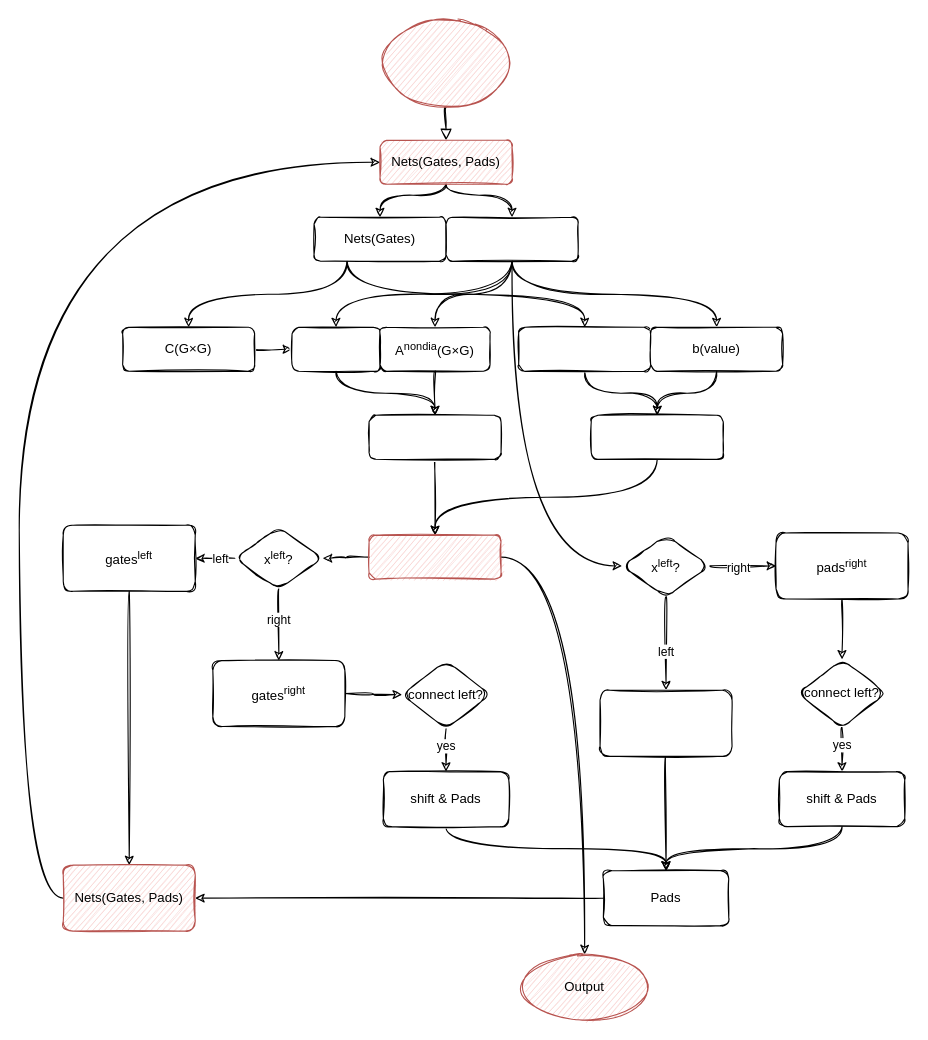
Some shapes in this 928 by 1040 pixel diagram are drawn without their labels. Here are the shapes that lost their labels. From the top down, the centre of each, then its label:
At (445,62): "Input: Gates, Nets, Pads".
At (511,238): "Nets(Pads)".
At (335,348): "A dia (G×G)".
At (584,348): "b(index)".
At (434,436): "A(G×G)".
At (656,436): "b x , b y".
At (434,556): "gates(x, y)".
At (665,722): "pads left".
